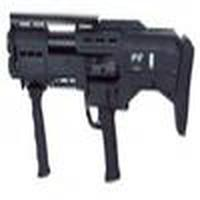gun: (6, 14, 199, 150)
